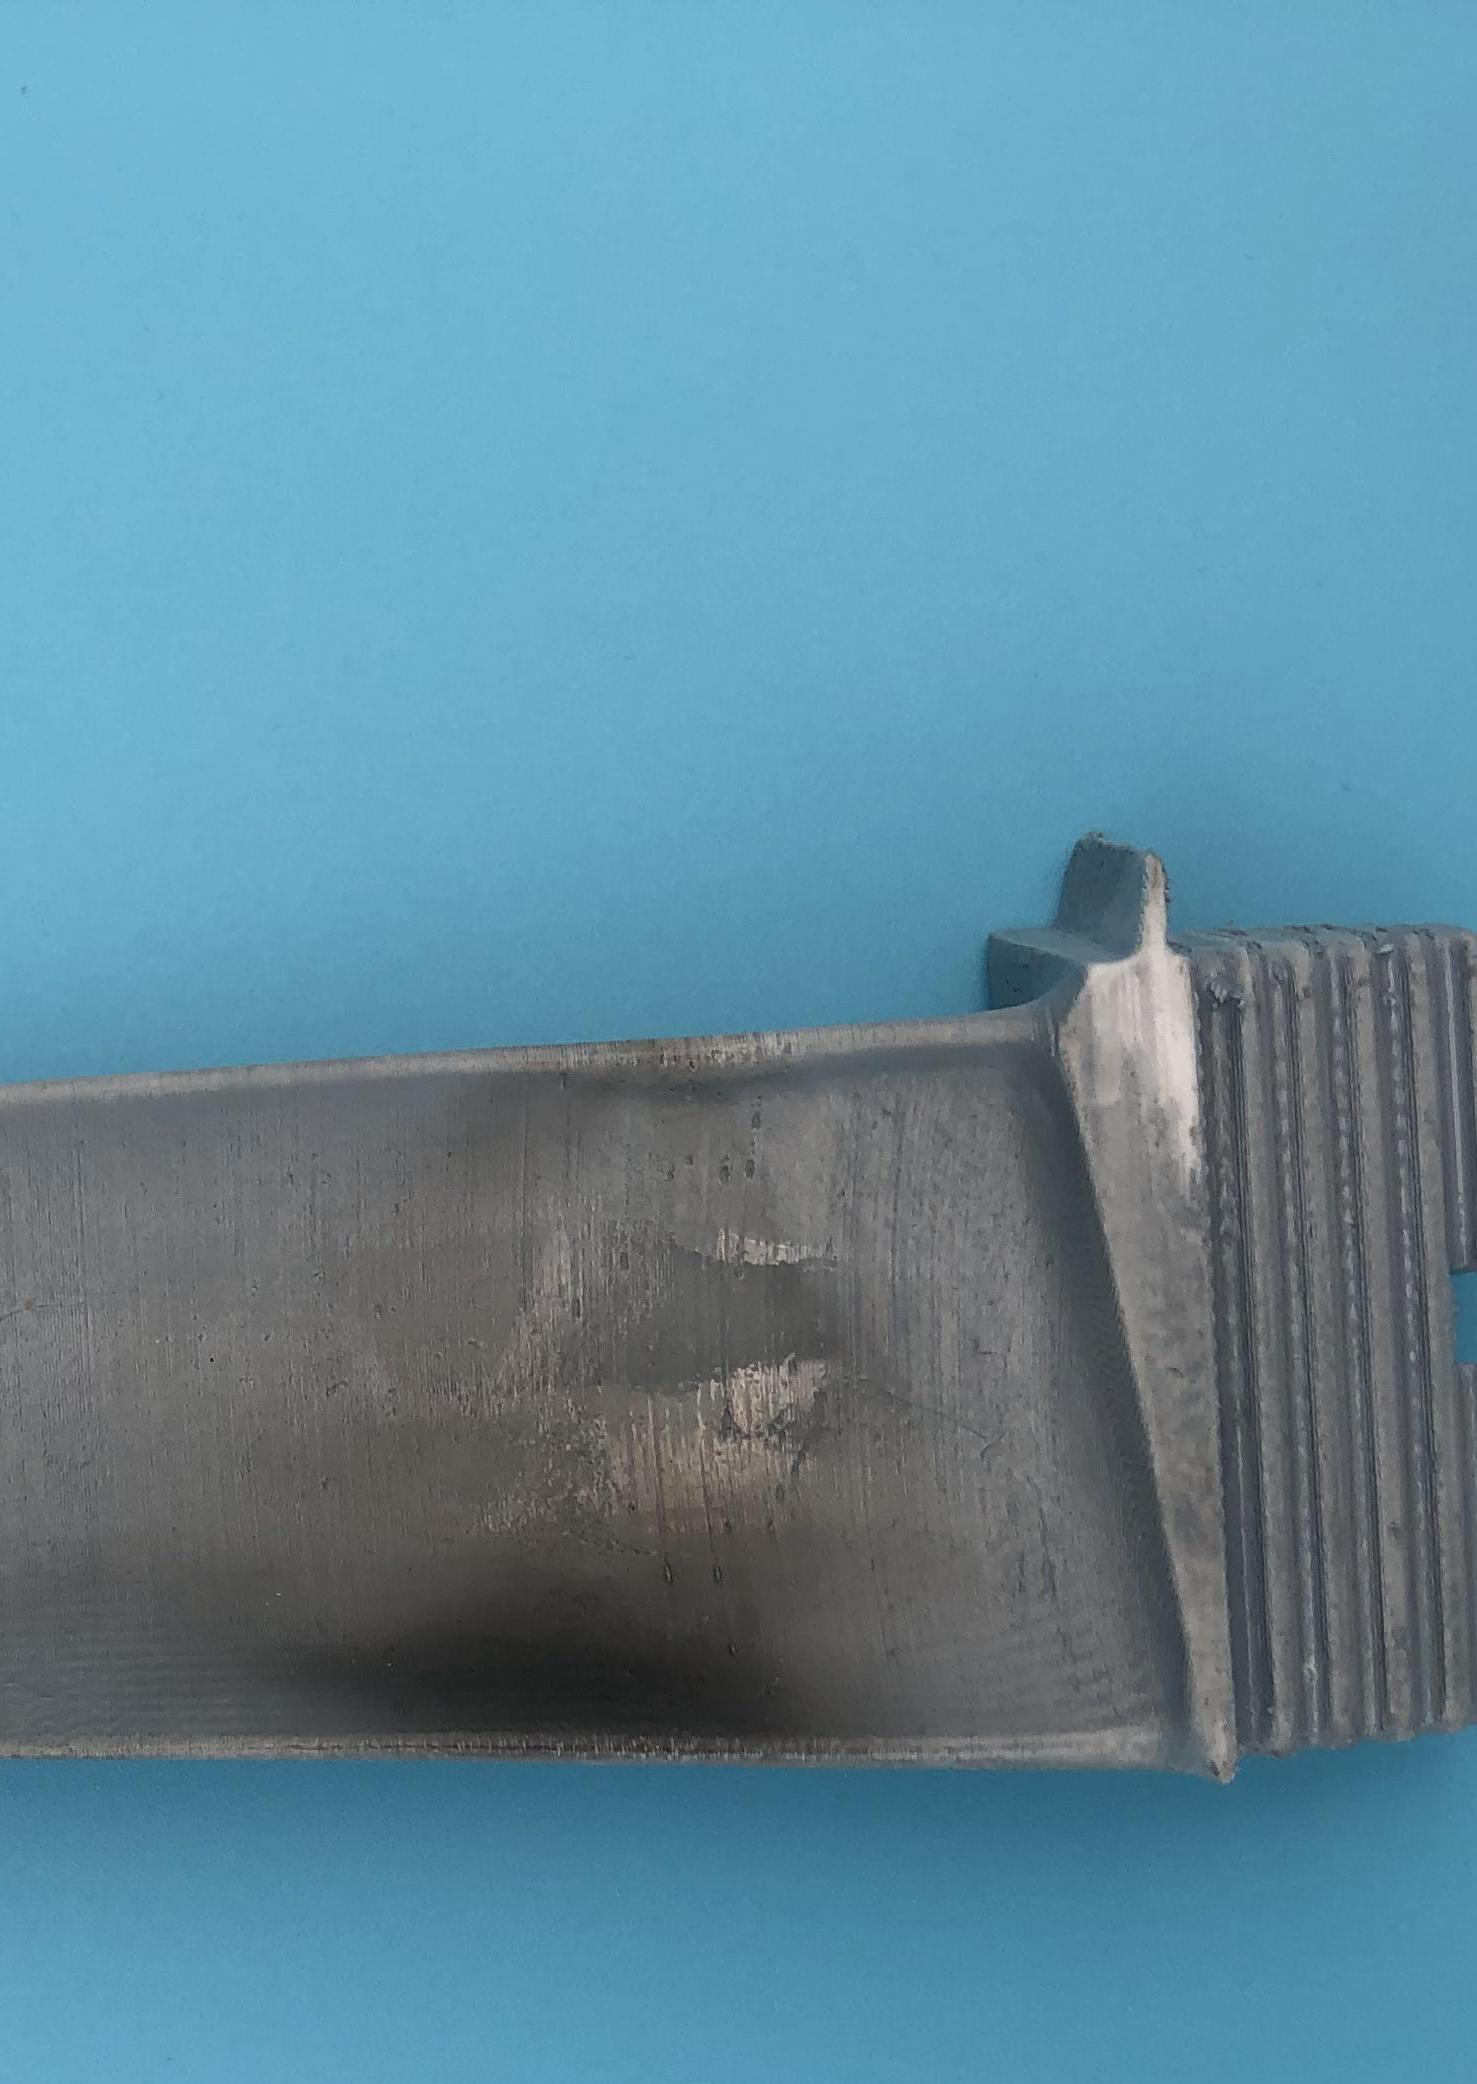ablation: (348, 1438, 894, 1745)
